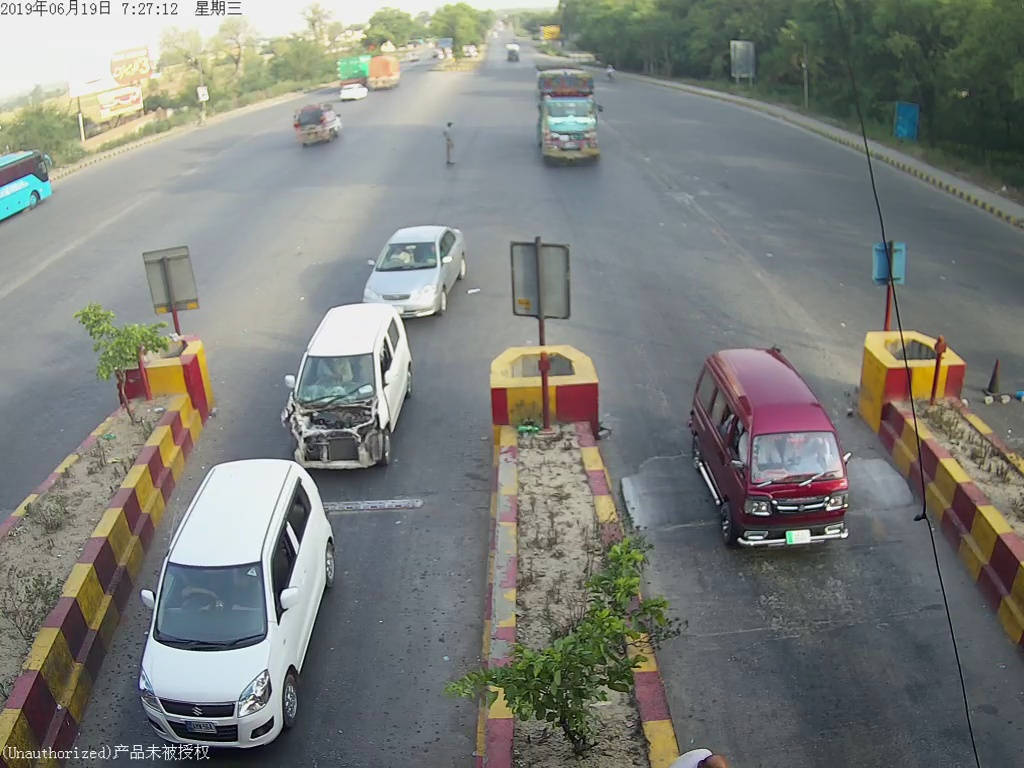Cat-1: (133, 462, 343, 743), (690, 333, 864, 564), (274, 303, 414, 457), (355, 222, 481, 298)
Cat-4: (531, 57, 609, 172)
